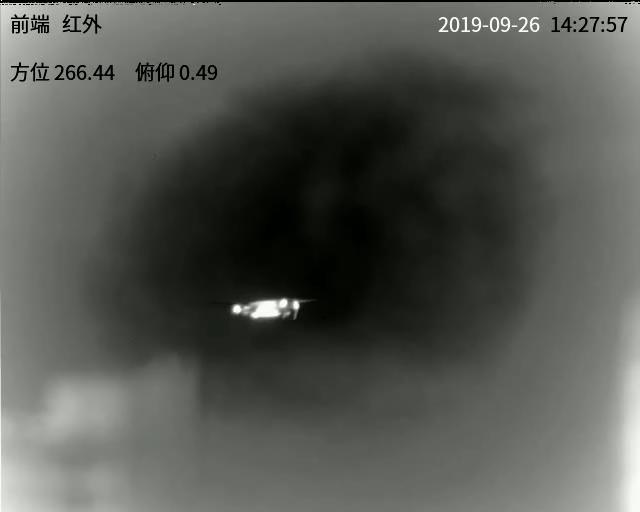uav: (218, 284, 312, 329)
